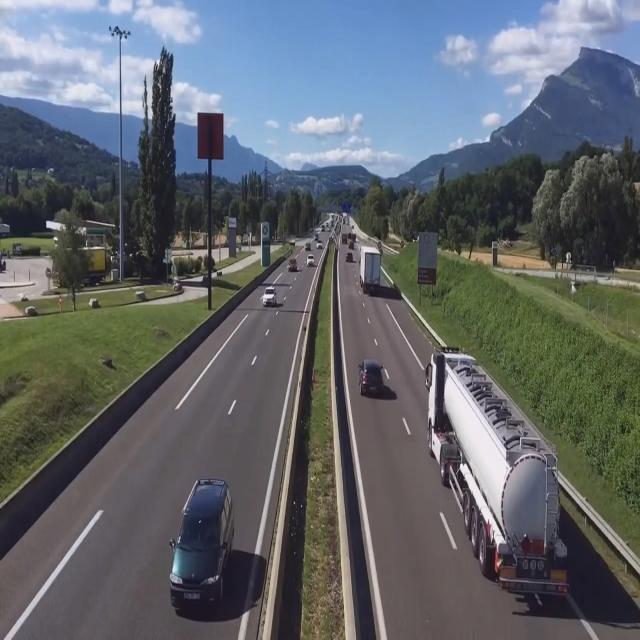car: (168, 475, 236, 615), (358, 356, 383, 402), (263, 285, 279, 306)
truck: (423, 342, 572, 602), (358, 244, 381, 294)
